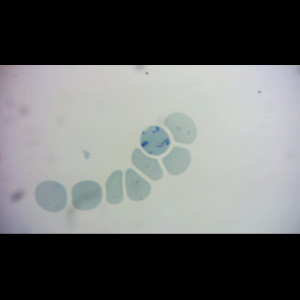aggregate reticulocyte: (139, 124, 171, 158)
erythrocyte: (161, 145, 194, 177), (70, 180, 104, 211), (104, 169, 125, 206)
punctate reticulocyte: (163, 111, 198, 146), (130, 147, 164, 183), (34, 180, 69, 213), (123, 167, 153, 203)
